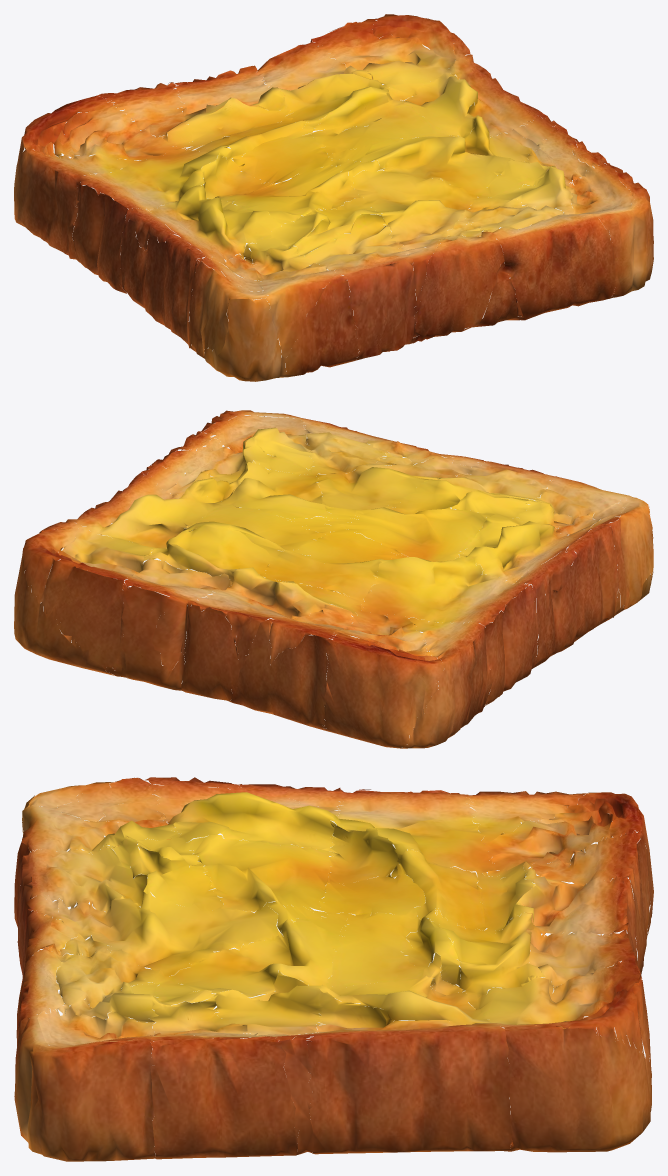
Rendered from toast.glb.
3 views of the same model, one above another, from view 1: azimuth 30°, elevation 25°; view 2: azimuth 150°, elevation 25°; view 3: azimuth 270°, elevation 25° (orthographic). The views are drawn at different scales.
Parts seen in each view (by area): view 1: tripo_node_e26e9264-fa39-4957-b348-95d9ec0ff493; view 2: tripo_node_e26e9264-fa39-4957-b348-95d9ec0ff493; view 3: tripo_node_e26e9264-fa39-4957-b348-95d9ec0ff493.
Part boxes in pixels (x1=…): tripo_node_e26e9264-fa39-4957-b348-95d9ec0ff493: x1=14, y1=14, x2=653, y2=381; tripo_node_e26e9264-fa39-4957-b348-95d9ec0ff493: x1=14, y1=410, x2=653, y2=748; tripo_node_e26e9264-fa39-4957-b348-95d9ec0ff493: x1=14, y1=777, x2=653, y2=1161.
Size of the model in its own units: 0.11 by 0.0272 by 0.1072.
Materials: 1 (1 with a texture image).
